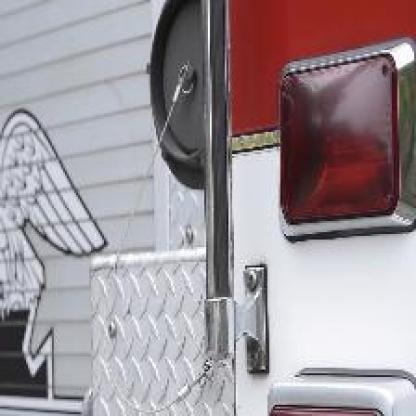other: (234, 27, 389, 182)
